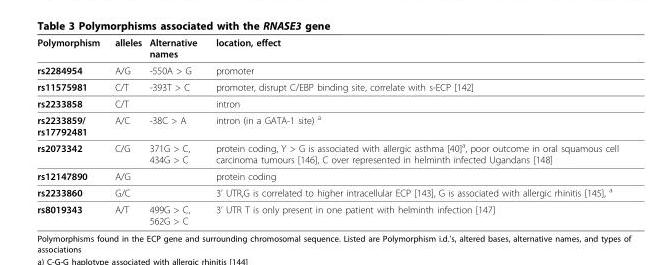table: (36, 36, 618, 226)
table column: (205, 36, 618, 226), (36, 36, 106, 226), (144, 36, 205, 226), (106, 36, 144, 226)
table column header: (36, 36, 618, 61)
table row: (36, 138, 618, 167), (36, 110, 618, 138), (36, 200, 618, 226), (36, 36, 618, 61), (36, 61, 618, 78), (36, 183, 618, 200), (36, 78, 618, 94), (36, 94, 618, 110), (36, 167, 618, 183)
